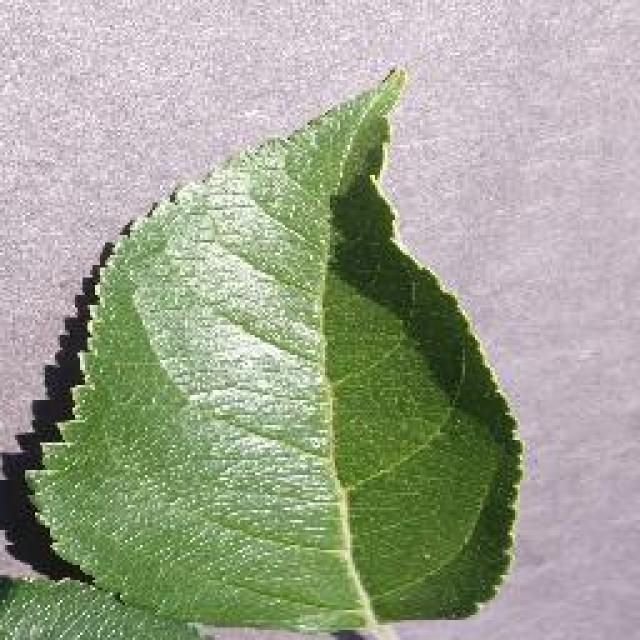apple healthy: (20, 62, 525, 638)
